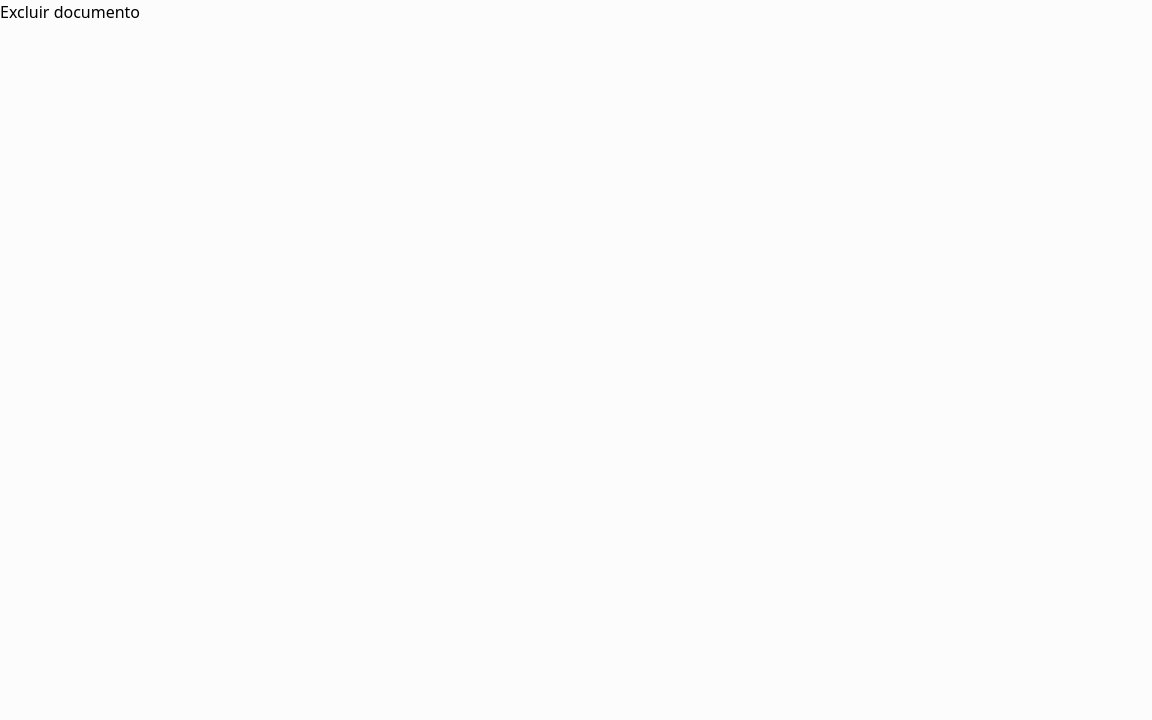
Test case: AlertDialog › fecha ao cancelar
This screenshot has width=1152, height=720.
Step 1. Click the button "Excluir documento" → (70, 12), box [0, 0, 140, 24]
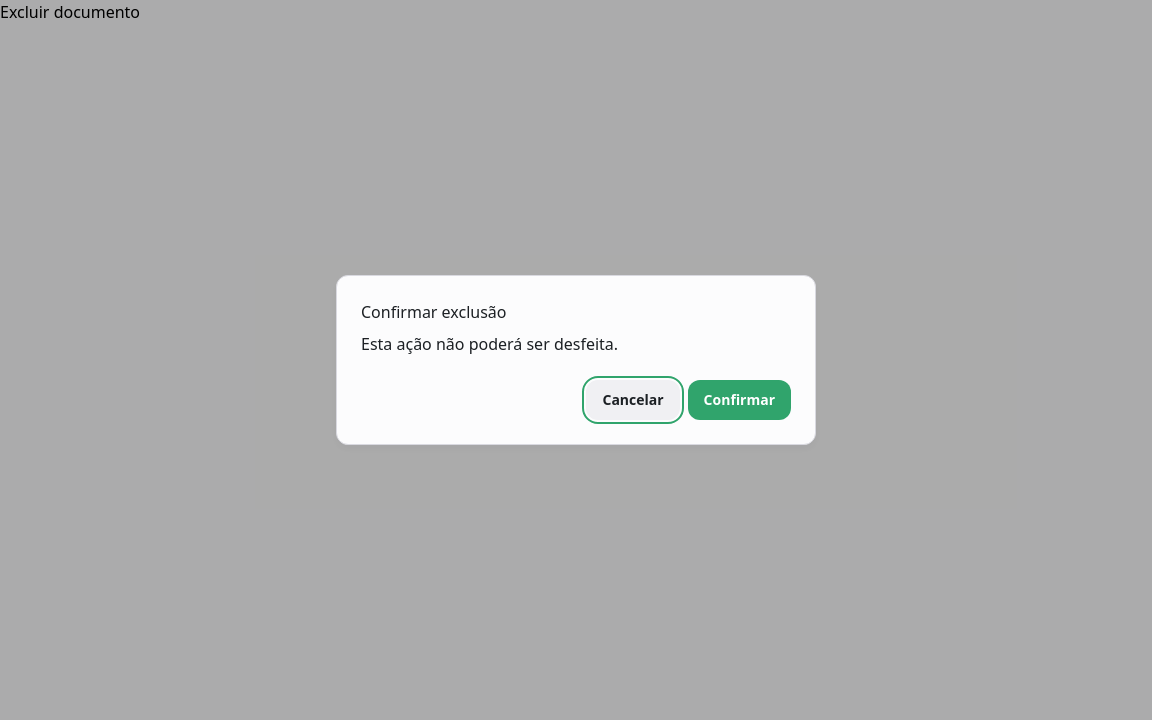
Step 2. Click the button "Cancelar" → (633, 400), box [586, 380, 680, 420]
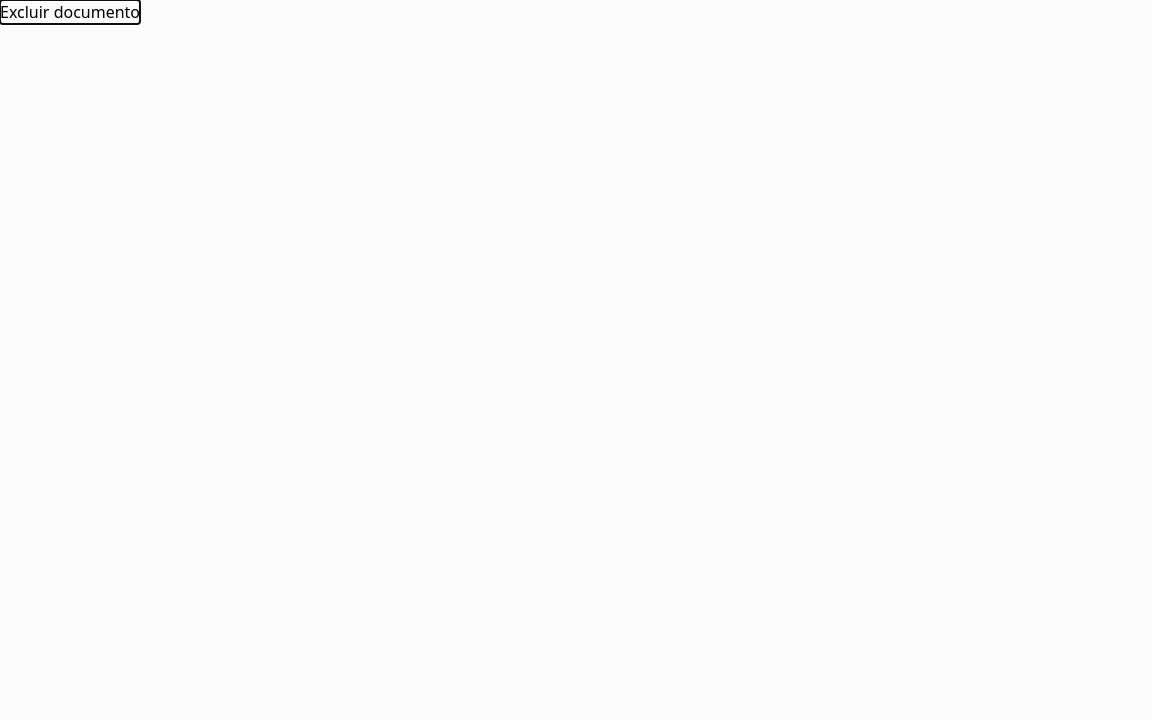
Expected: the dialog is gone
